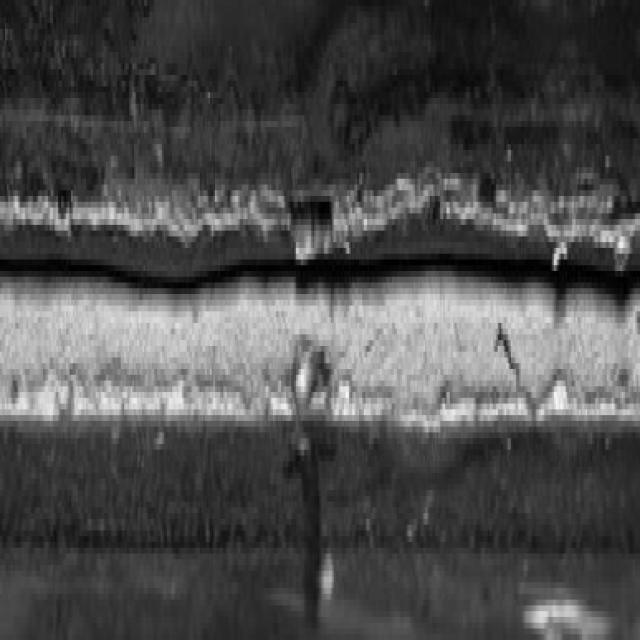Bad Welding: (0, 86, 638, 472)
Crack: (4, 225, 638, 312)
